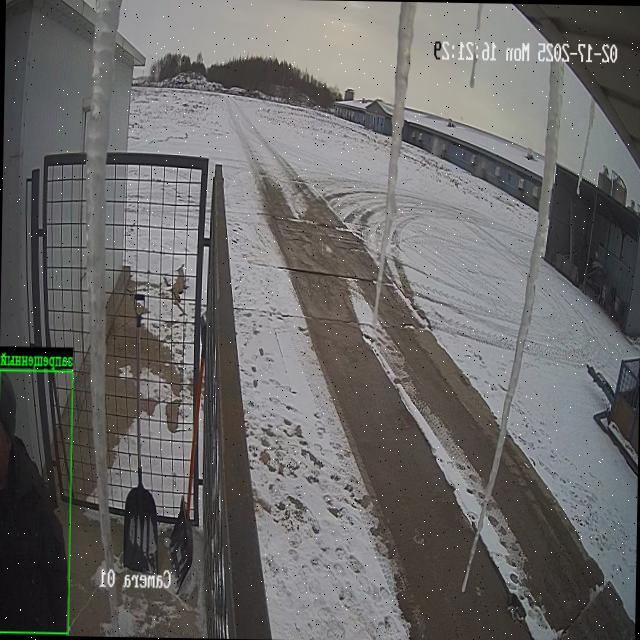Person: (0, 373, 67, 631)
